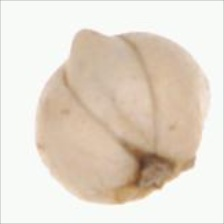L5: (59, 28, 162, 153), (131, 149, 187, 193)
L6: (31, 29, 213, 206)
